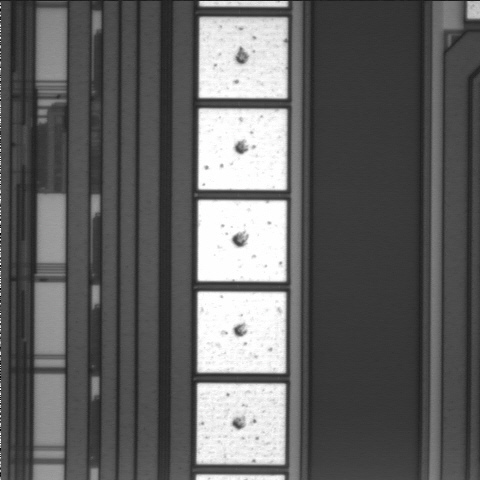pad: (196, 383, 286, 465), (198, 108, 287, 190), (198, 200, 287, 282), (197, 292, 286, 373), (199, 17, 287, 98)
